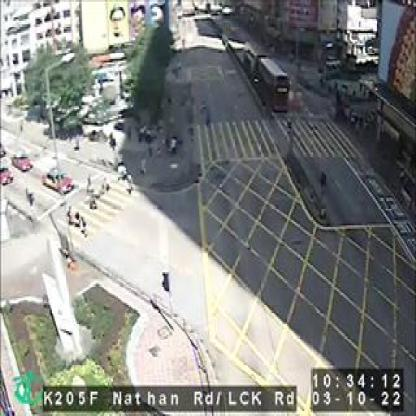Bus: (259, 59, 287, 111), (243, 40, 267, 74)
Car: (44, 168, 74, 191), (10, 151, 32, 170)
